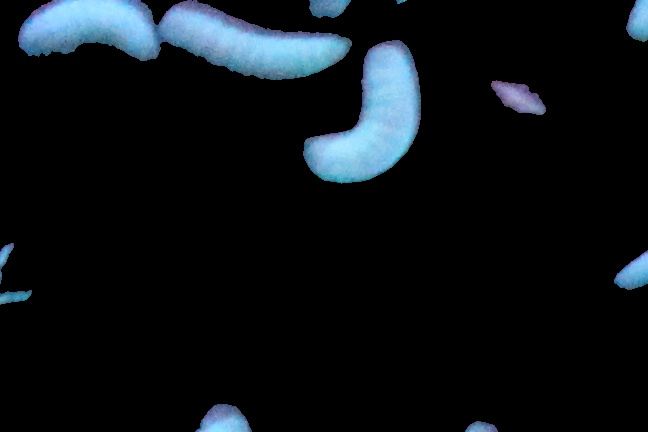larvae: (307, 39, 423, 187), (160, 9, 348, 82), (20, 1, 159, 65)
